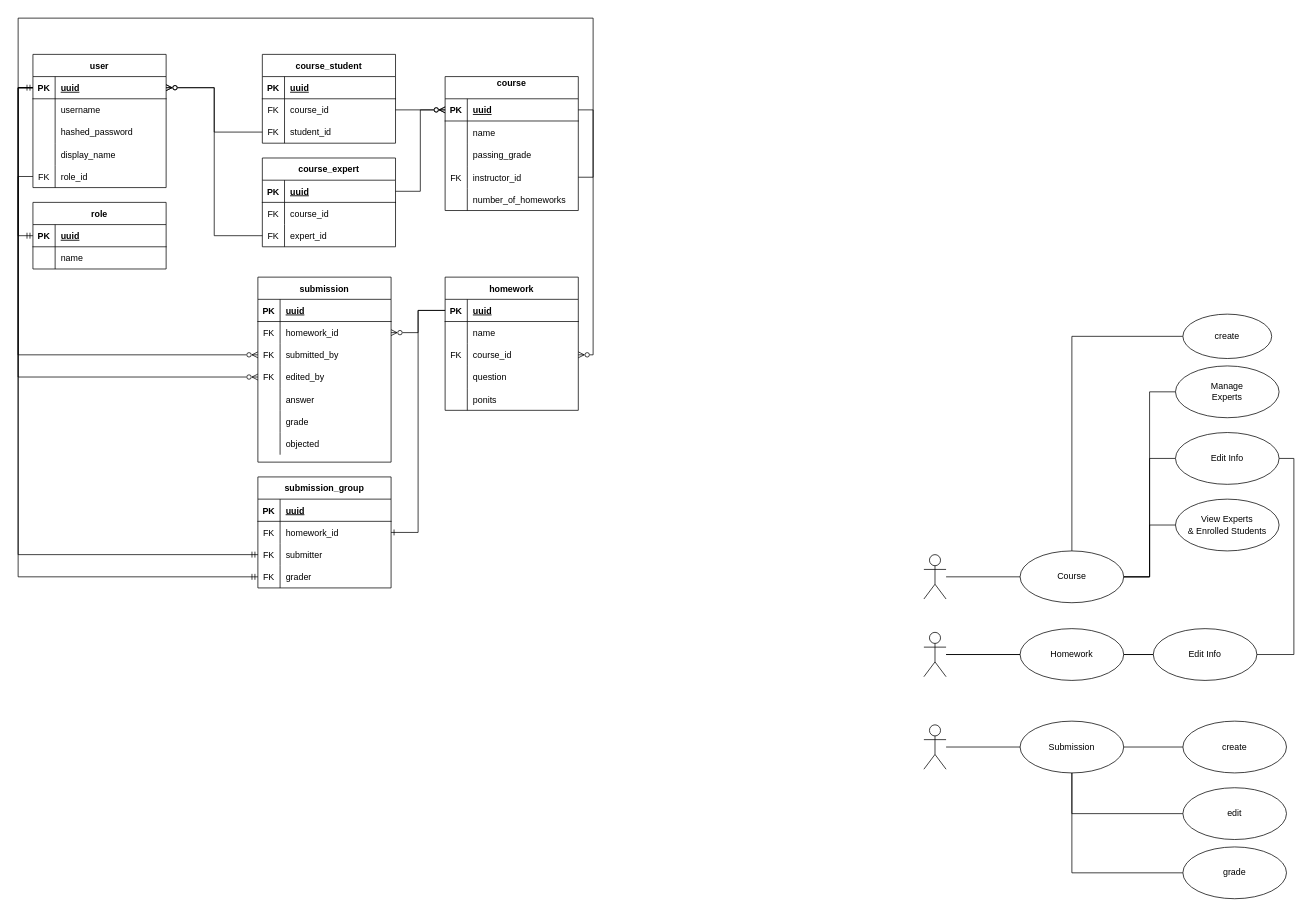
The diagram is 1308 pixels wide and 912 high, and some of its shapes have lost their labels. Each missing label, with the centre of its shape:
Expert: [934,654]
Instructor: [934,576]
Student: [934,746]
